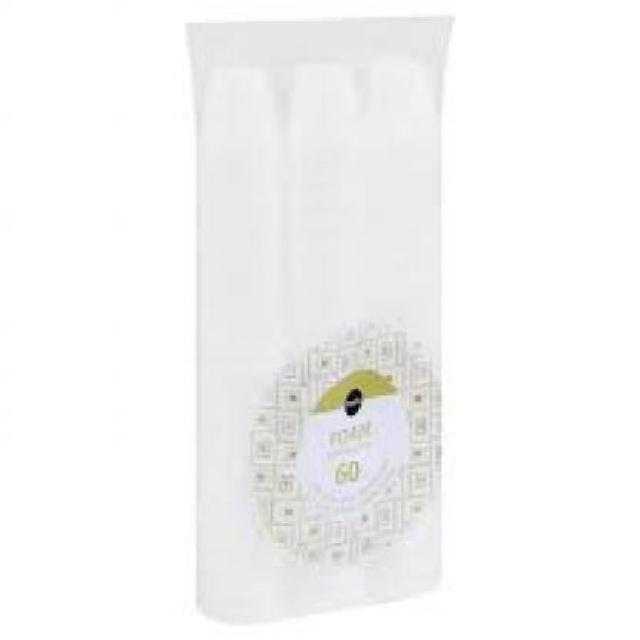PAPER: (182, 11, 452, 618)
